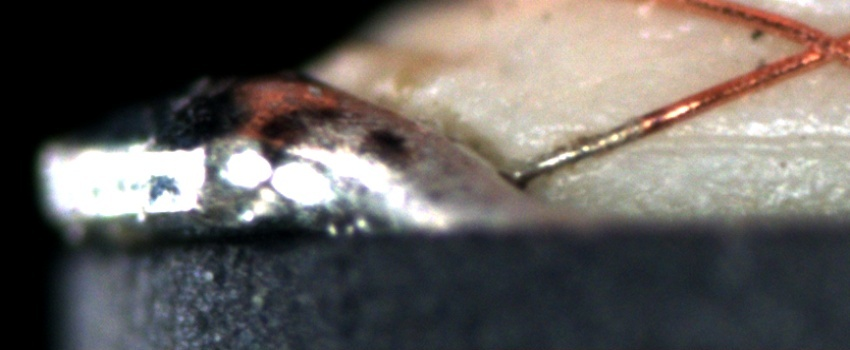CL: (781, 16, 845, 73)
DL: (652, 108, 850, 166)
TS: (512, 121, 642, 183)
